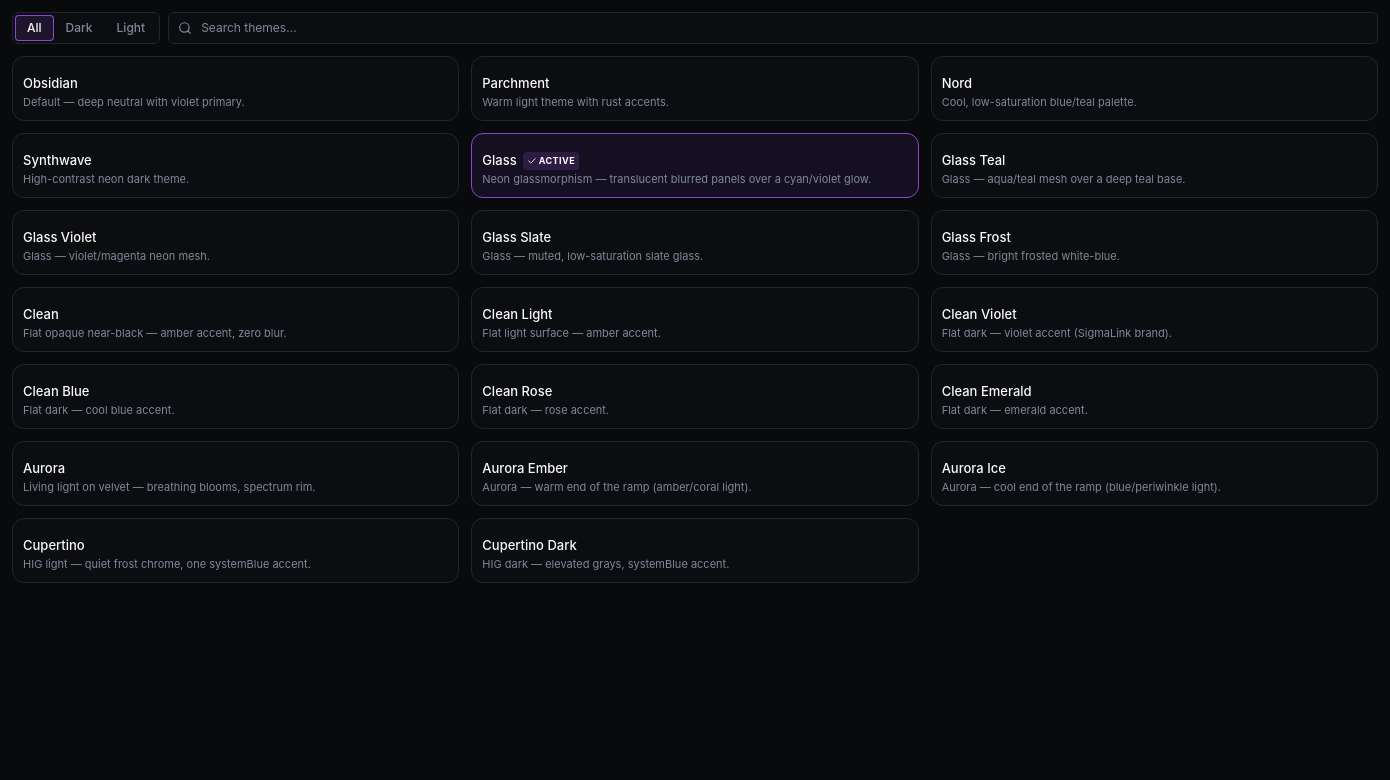
ThemeGallery › search narrows by label/description/id
Type "parchment" into the search field at (773, 28), box [168,12,1378,44]
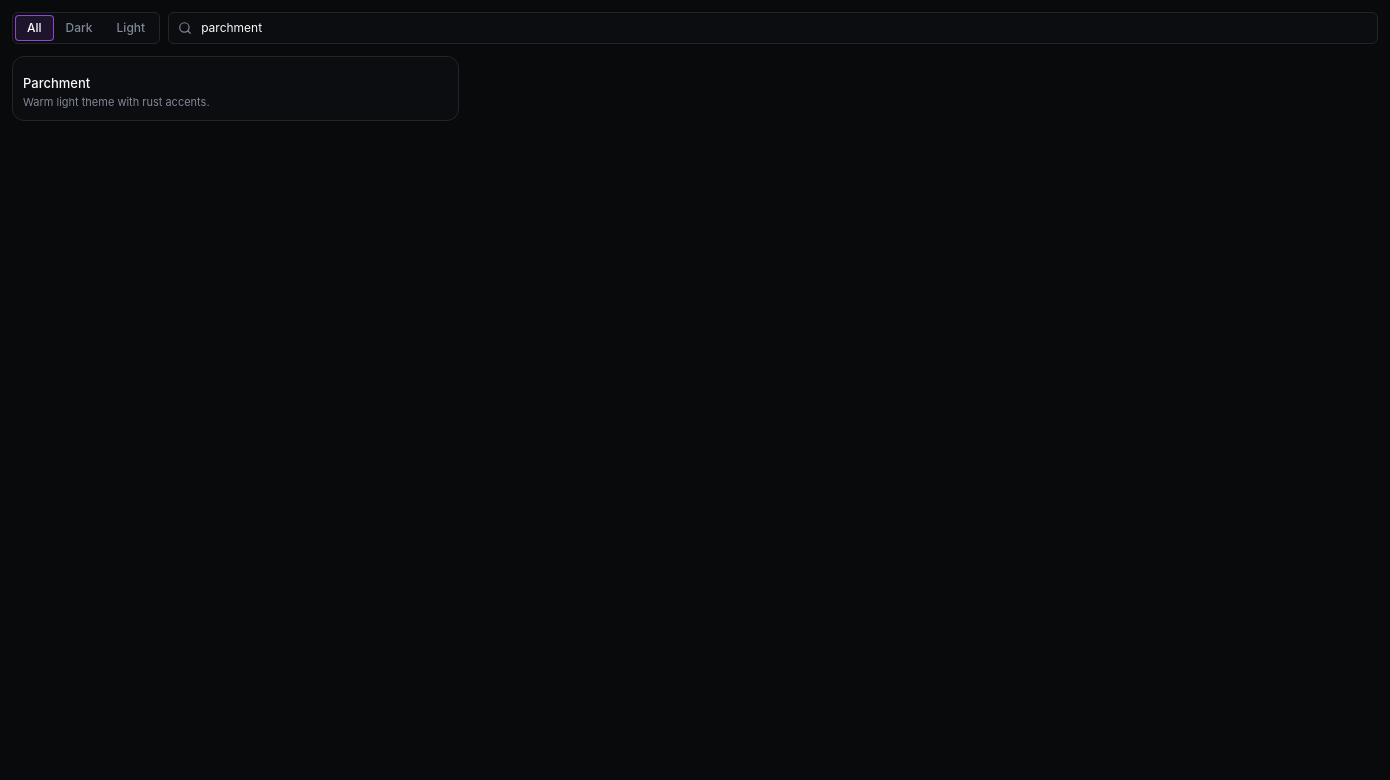
Expected: the button with test id "theme-card-parchment" is shown, [12,56,459,121]
Result: the button with test id "theme-card-glass" is gone
